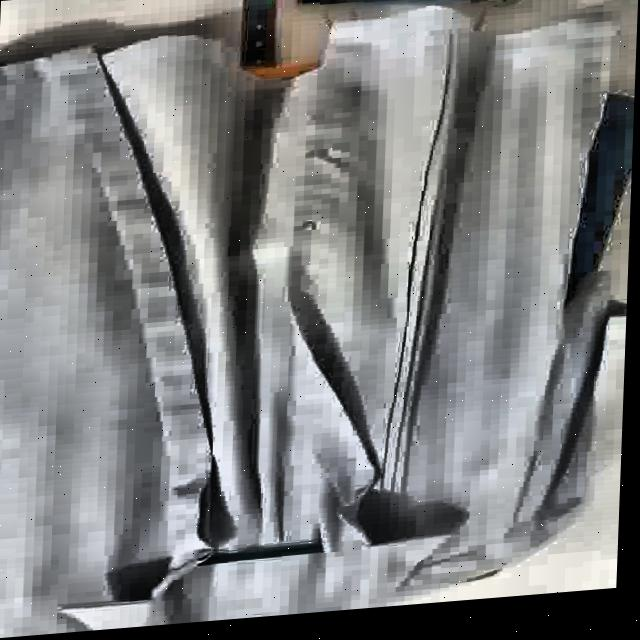clothes: (0, 0, 635, 640)
